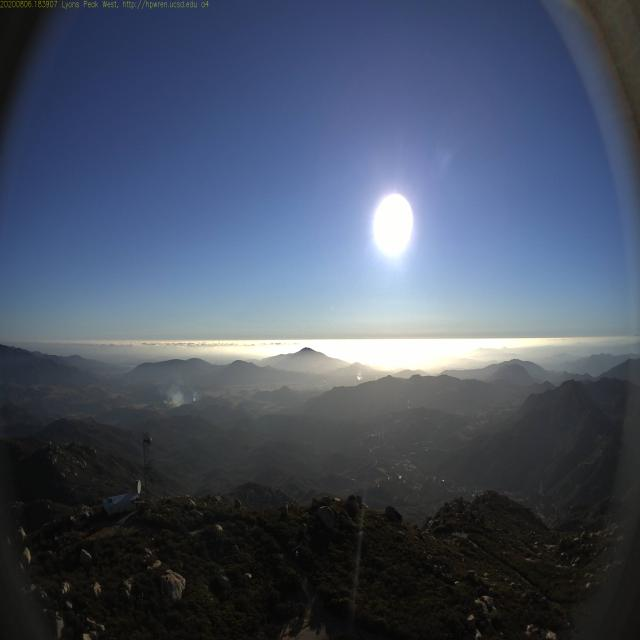smoke: (161, 382, 187, 414), (351, 363, 367, 389), (188, 380, 201, 406)
